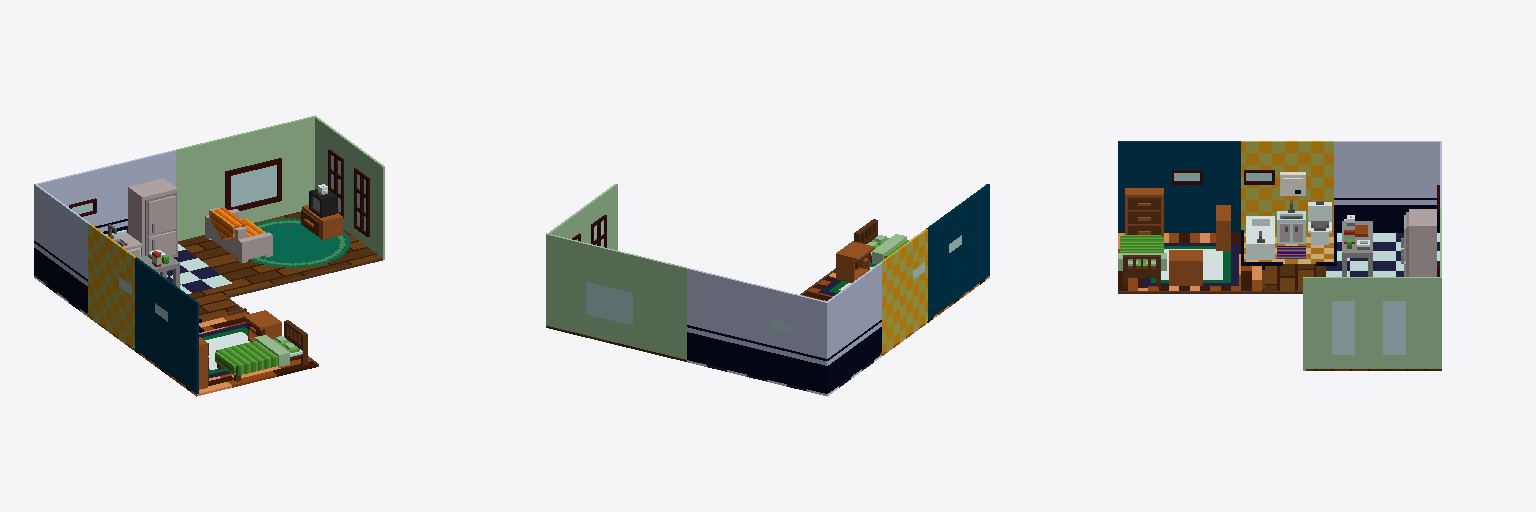
3 views of the same model, side by side, from view 1: azimuth 30°, elevation 25°; view 2: azimuth 150°, elevation 25°; view 3: azimuth 270°, elevation 25° (orthographic).
Visible parts, largest first — view 1: object 1; view 2: object 1; view 3: object 1.
Boxes of the visible parts, <box> form: object 1: <box>34,115,384,396</box>; object 1: <box>546,184,989,396</box>; object 1: <box>1118,141,1441,370</box>.
Bounding box in the file's own units: 12.6 × 4 × 12.6.
Materials: 1 (1 with a texture image).